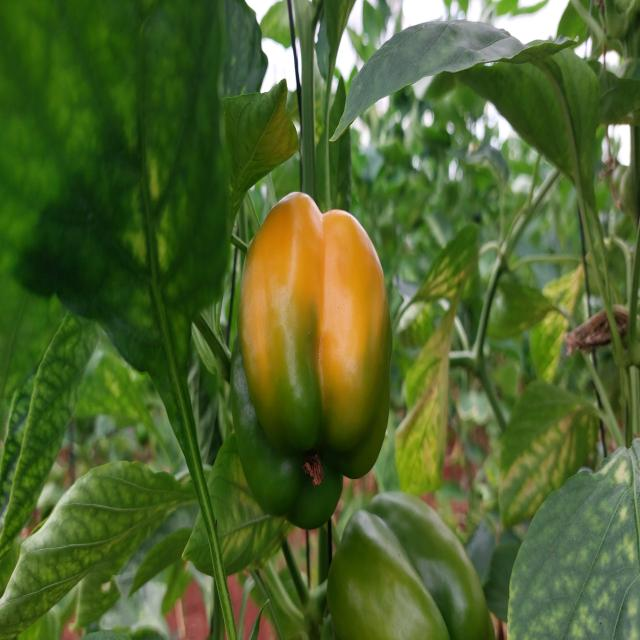GreenishYellow--Can-be-Harvested: (222, 184, 390, 496)
